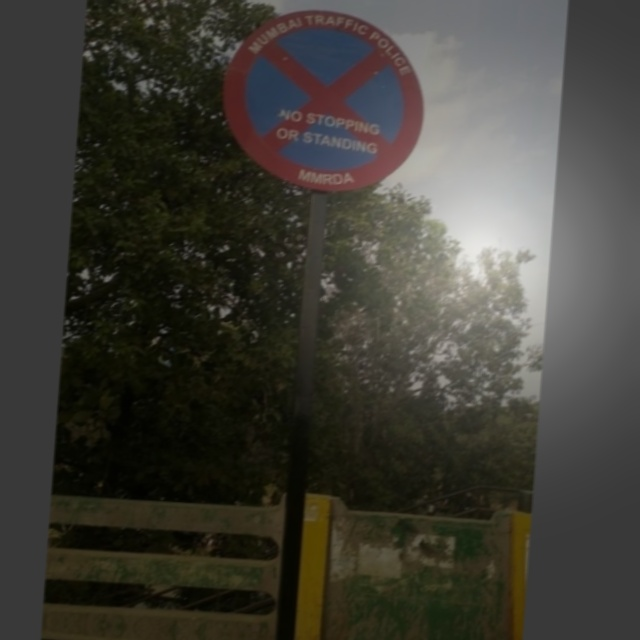No_Stopping_or_Standing: (217, 1, 438, 209)
